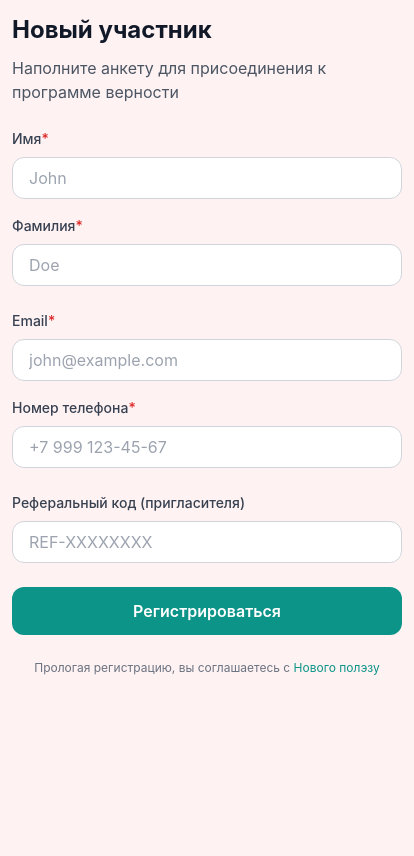
GuestRegistrationForm Component › should show validation error for empty email
Click the button "Регистрироваться" at coordinates (207, 611), box x1=12 y1=587 x2=402 y2=635
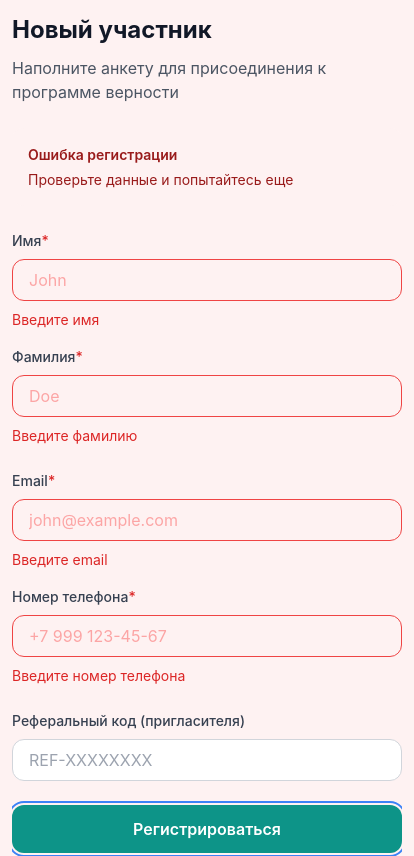
Now the text "Введите email" is shown, box x1=12 y1=551 x2=108 y2=568
